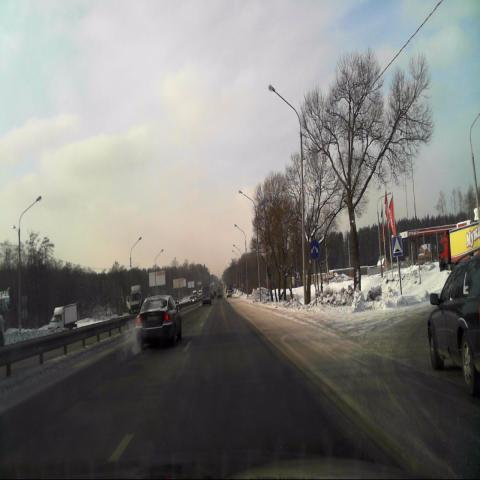4_2_3: (308, 240, 320, 260)
